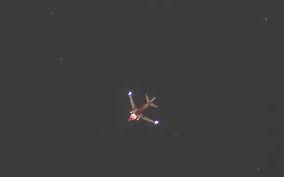Plane: (92, 74, 190, 137)
